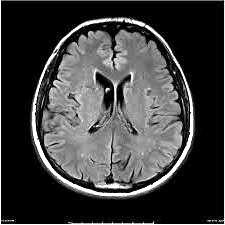Normal_Brain: (26, 7, 215, 225)
